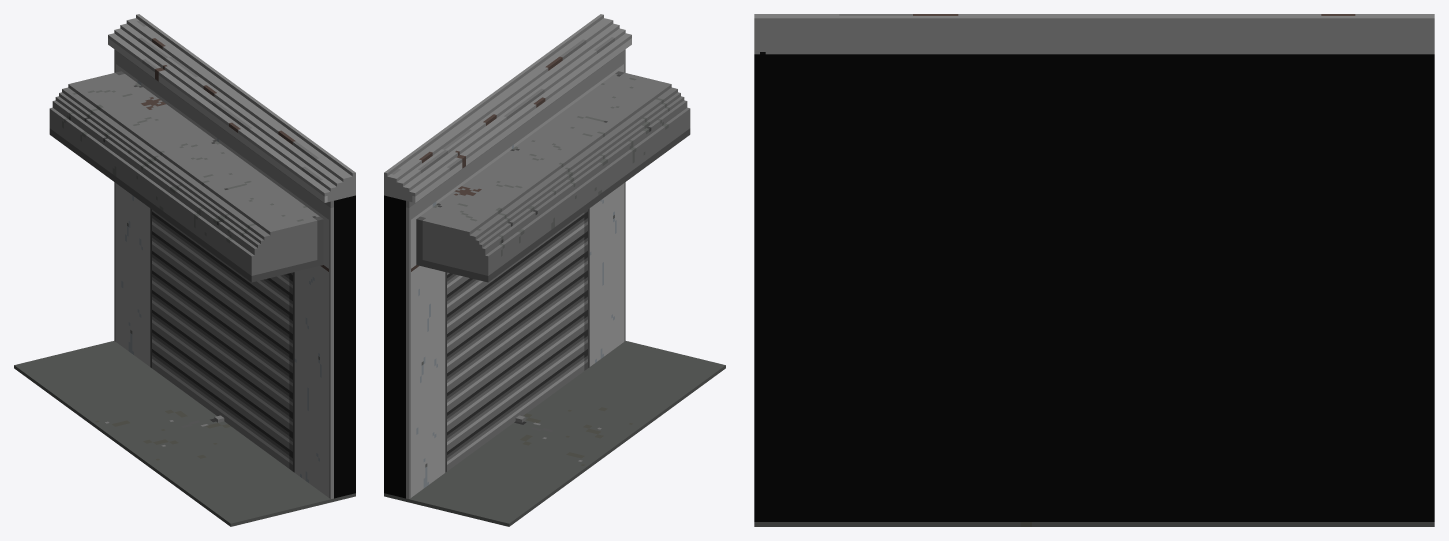
File: Parede_Portao_01.obj
3 views of the same model, side by side, from view 1: azimuth 30°, elevation 25°; view 2: azimuth 150°, elevation 25°; view 3: azimuth 270°, elevation 25° (orthographic). The views are drawn at different scales.
Size of the model in its own units: 40 by 99 by 120.
Materials: 1 (1 with a texture image).
